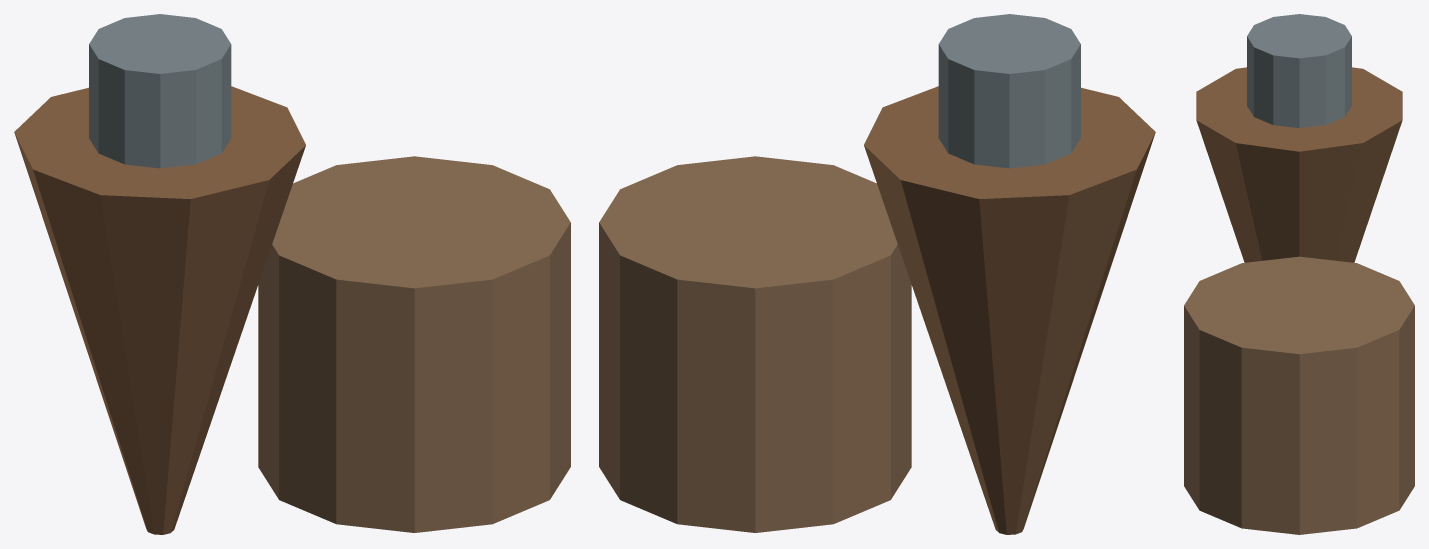
Rendered from L-41_plumb_bob.glb.
The picture shows the model from 3 angles, left to right: view 1: azimuth 30°, elevation 25°; view 2: azimuth 150°, elevation 25°; view 3: azimuth 270°, elevation 25°; orthographic projection. The views are drawn at different scales.
Visible parts, largest first — view 1: L-41_plumb_bob; view 2: L-41_plumb_bob; view 3: L-41_plumb_bob.
Part boxes in pixels (x1,y1,x2,y2): L-41_plumb_bob: (14,14,570,534); L-41_plumb_bob: (599,14,1155,534); L-41_plumb_bob: (1184,14,1414,534).
Bounding box in the file's own units: 0.126 × 0.113 × 0.066.
